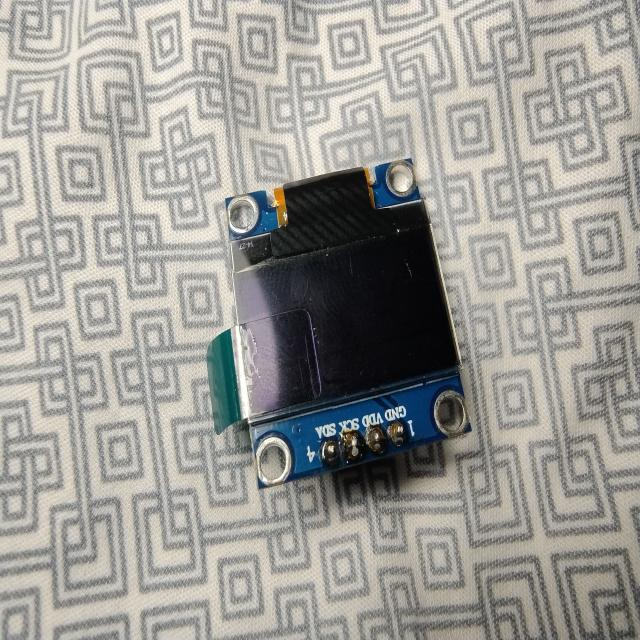oled: (202, 154, 486, 496)
